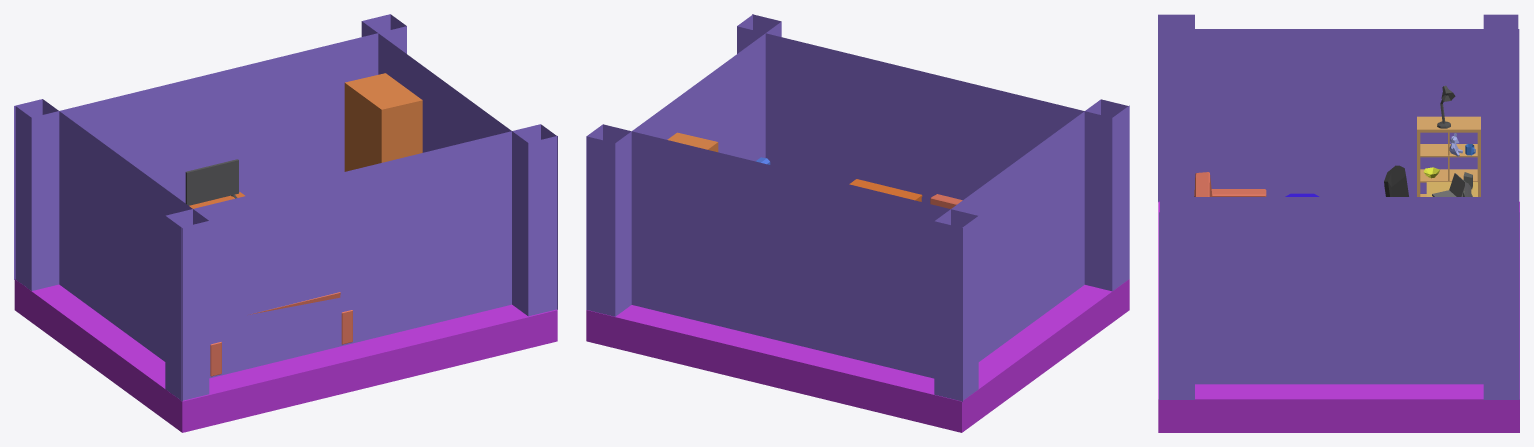
The model's file is wisdom_interior_1.glb.
3 views of the same model, side by side, from view 1: azimuth 30°, elevation 25°; view 2: azimuth 150°, elevation 25°; view 3: azimuth 270°, elevation 25° (orthographic). The views are drawn at different scales.
Parts seen in each view (by area): view 1: exter.wallYm, exter.wallYp, exter.floor, exter.wallXm, exter.wallXp, shifonier, cumod.tv, couch2; view 2: exter.wallYp, exter.wallYm, exter.floor, exter.wallXm, exter.wallXp, cumod2; view 3: exter.wallXp, exter.wallXm, exter.floor, exter.wallYm, exter.wallYp, shelf, couch2, chair, shelf.table.pc, shelf.table.
Boxes of the visible parts, bbox=[...] form: exter.wallYm: bbox=[165, 124, 557, 401]; exter.wallYp: bbox=[15, 14, 406, 290]; exter.floor: bbox=[14, 279, 557, 432]; exter.wallXm: bbox=[14, 99, 209, 401]; exter.wallXp: bbox=[361, 14, 557, 316]; shifonier: bbox=[344, 73, 422, 171]; cumod.tv: bbox=[185, 159, 238, 205]; couch2: bbox=[210, 292, 352, 376]; exter.wallYp: bbox=[586, 124, 978, 400]; exter.wallYm: bbox=[737, 14, 1129, 291]; exter.floor: bbox=[586, 279, 1129, 432]; exter.wallXm: bbox=[934, 99, 1127, 401]; exter.wallXp: bbox=[586, 14, 781, 316]; cumod2: bbox=[849, 179, 922, 201]; exter.wallXp: bbox=[1160, 197, 1519, 384]; exter.wallXm: bbox=[1160, 29, 1519, 196]; exter.floor: bbox=[1158, 201, 1519, 432]; exter.wallYm: bbox=[1158, 14, 1194, 399]; exter.wallYp: bbox=[1483, 14, 1519, 399]; shelf: bbox=[1417, 116, 1480, 196]; couch2: bbox=[1194, 172, 1266, 196]; chair: bbox=[1384, 165, 1408, 196]; shelf.table.pc: bbox=[1432, 173, 1466, 196]; shelf.table: bbox=[1426, 182, 1477, 196].
Size of the model in its own units: 13.05 by 6.76 by 10.04.
